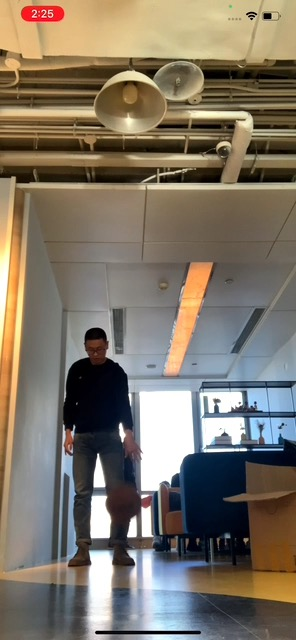ball: (106, 484, 142, 519)
